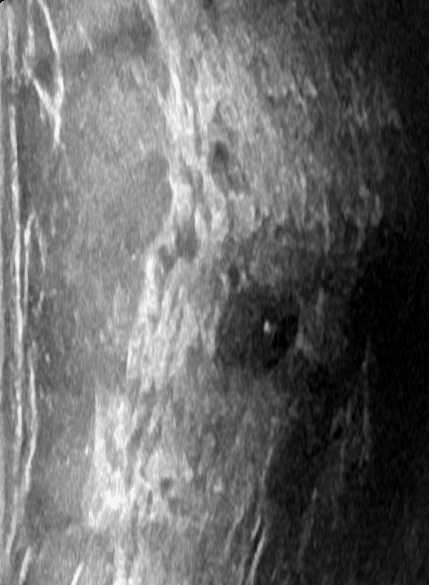Benign: (207, 290, 303, 380)
